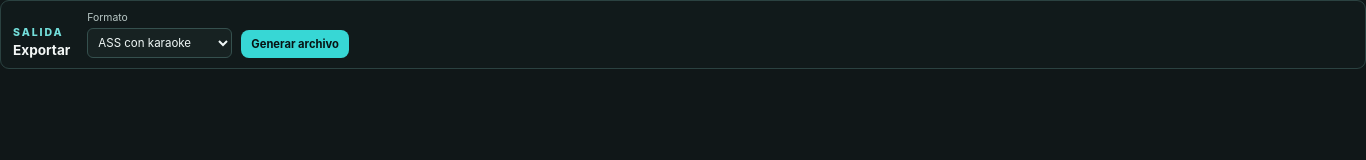
Test: export panel › polls actual MP4 job progress, reports completion and exposes its download
This screenshot has width=1366, height=160.
Later steps or results of the test are not shown.
Select "Video MP4" in the dropdown named "Formato de exportación". click: (160, 43)
box: x1=87 y1=28 x2=232 y2=58
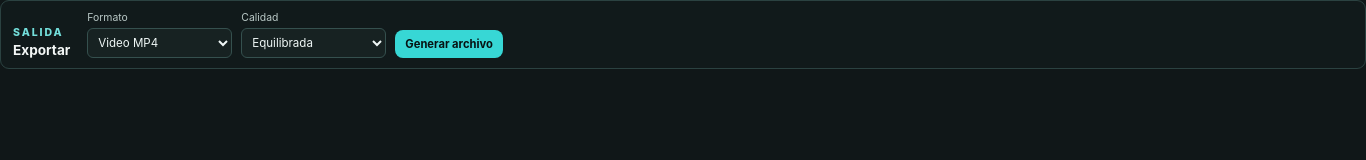
Click the button "Generar archivo". click: click(449, 44)
box: x1=395 y1=30 x2=503 y2=58
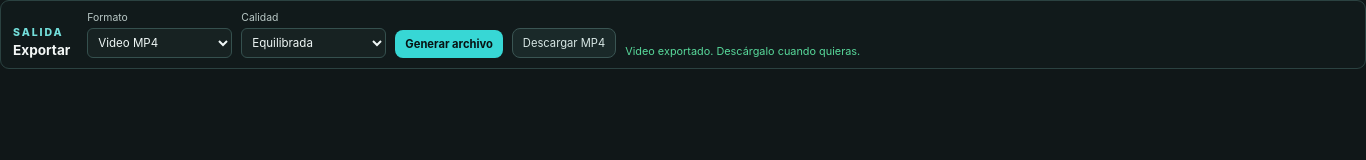
Check: the message shows "Video exportado", box x1=625 y1=44 x2=860 y2=58
